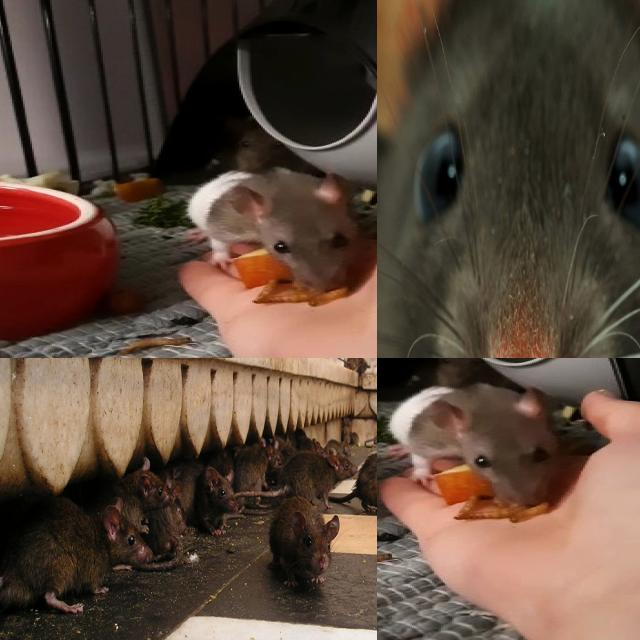rat: (377, 0, 640, 358), (191, 164, 374, 291), (388, 384, 555, 508), (14, 502, 148, 606), (271, 497, 338, 591), (420, 358, 505, 391), (356, 452, 377, 515)
